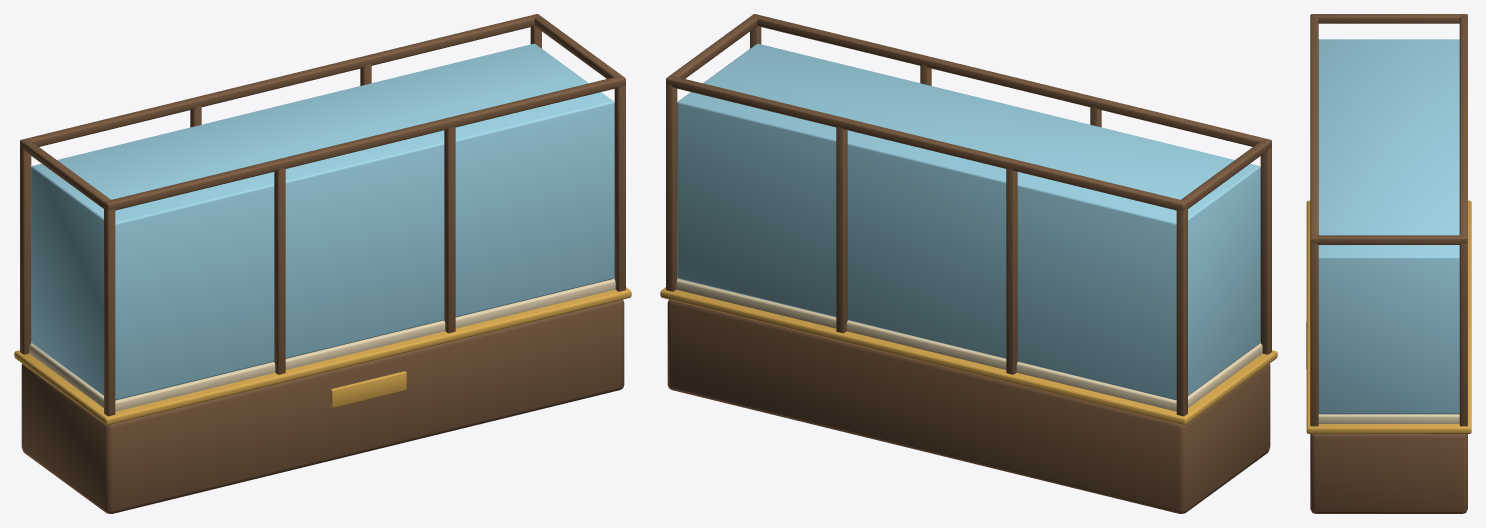
The model's file is wall-tank.glb.
3 renders of one model, left to right at view 1: azimuth 30°, elevation 25°; view 2: azimuth 150°, elevation 25°; view 3: azimuth 270°, elevation 25°, orthographic. The views are drawn at different scales.
Visible parts, largest first — view 1: water, frame; view 2: water, frame; view 3: water, frame.
Boxes of the visible parts, x1=… form: water: x1=29, y1=43, x2=615, y2=411; frame: x1=14, y1=14, x2=631, y2=513; water: x1=676, y1=43, x2=1262, y2=411; frame: x1=660, y1=14, x2=1277, y2=513; water: x1=1318, y1=39, x2=1459, y2=423; frame: x1=1306, y1=14, x2=1471, y2=513.
Size of the model in its own units: 2.94 by 1.67 by 0.902.
